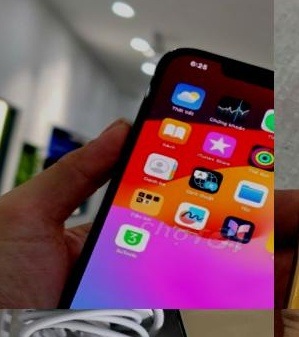physical_damage: (274, 41, 299, 309)
